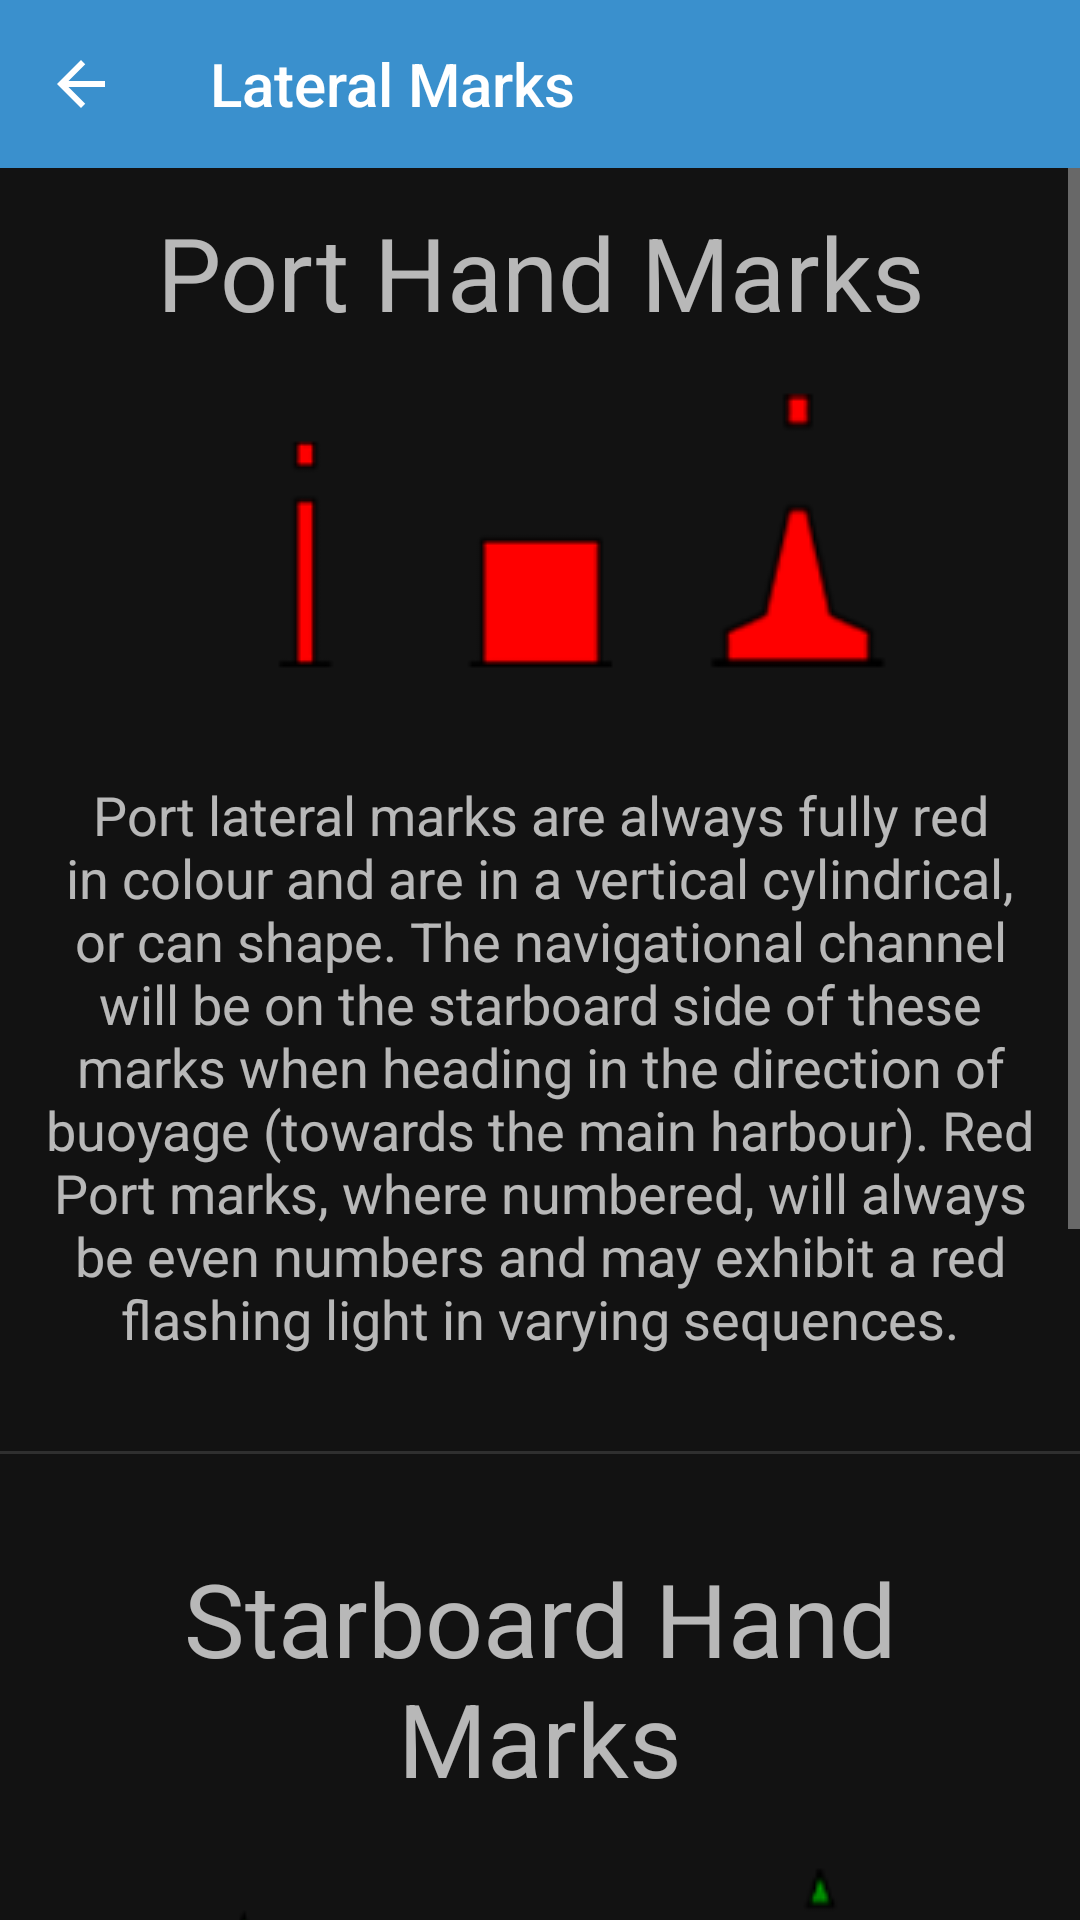

Icons on this 1080*1920 Android screen, each with the point to tap as (x,y):
arrow back: (81,84)
